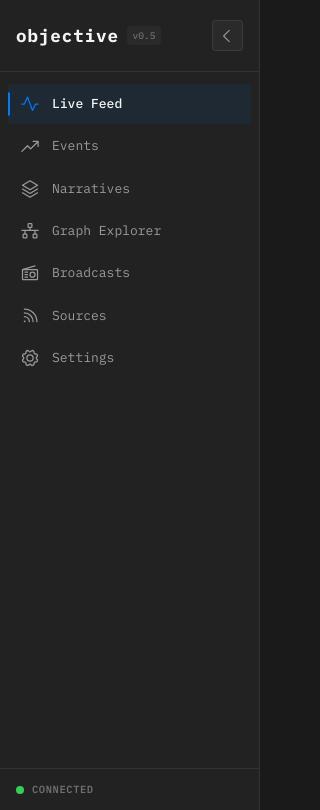
Scenario: <Sidebar /> › toggles collapsed state and updates the status label
This screenshot has width=320, height=810.
Expected: the text "CONNECTED" is shown, [32,781,94,798]
Click the button with class "collapse-btn" at (227, 36), box [212,20,243,51]
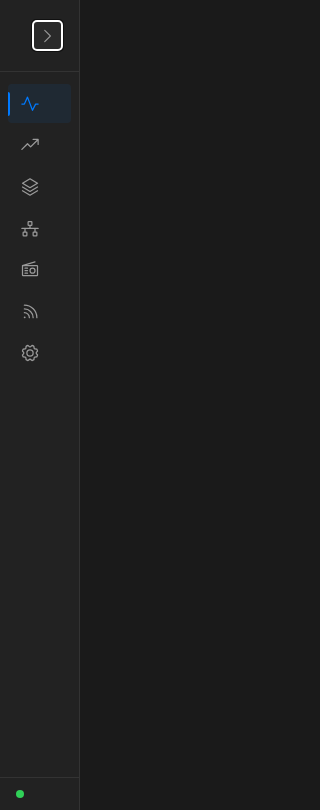
Result: the text "CONNECTED" is gone
